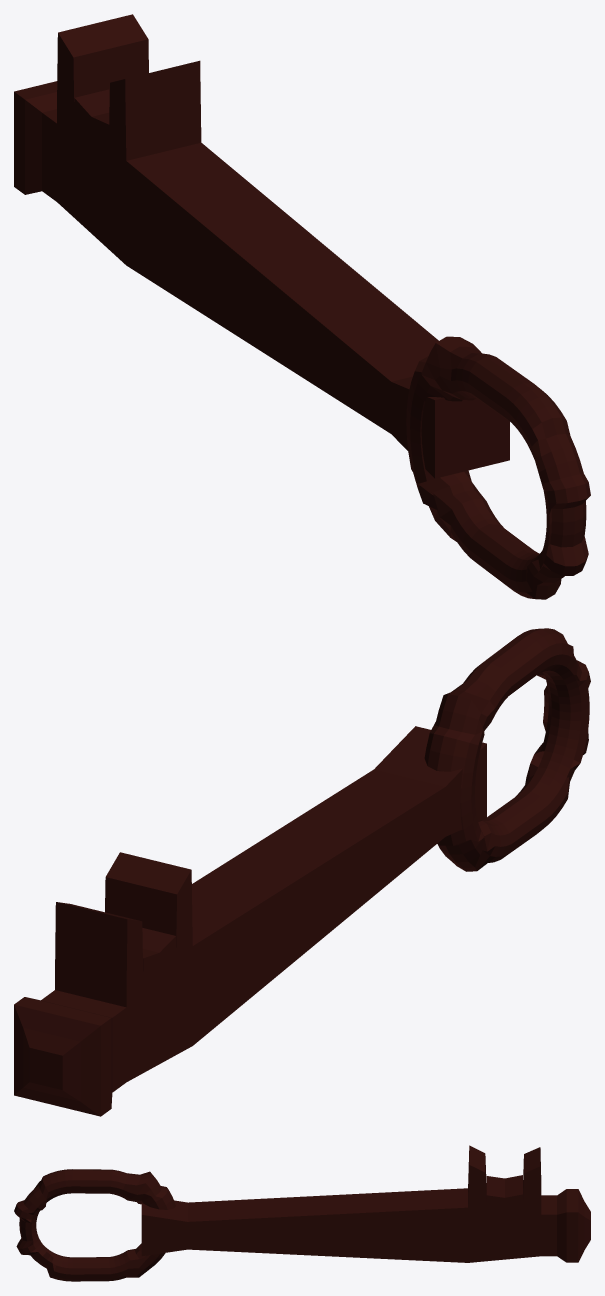
File: WallKey.fbx
3 views of the same model, one above another, from view 1: azimuth 30°, elevation 25°; view 2: azimuth 150°, elevation 25°; view 3: azimuth 270°, elevation 25° (orthographic). The views are drawn at different scales.
Parts seen in each view (by area): view 1: WallKey; view 2: WallKey; view 3: WallKey.
Boxes of the visible parts, box(x1,y1,x2,y2) form: WallKey: box(14, 14, 590, 599); WallKey: box(14, 628, 590, 1116); WallKey: box(14, 1145, 590, 1281).
Bounding box in the file's own units: 2.89 × 7.4 × 30.
